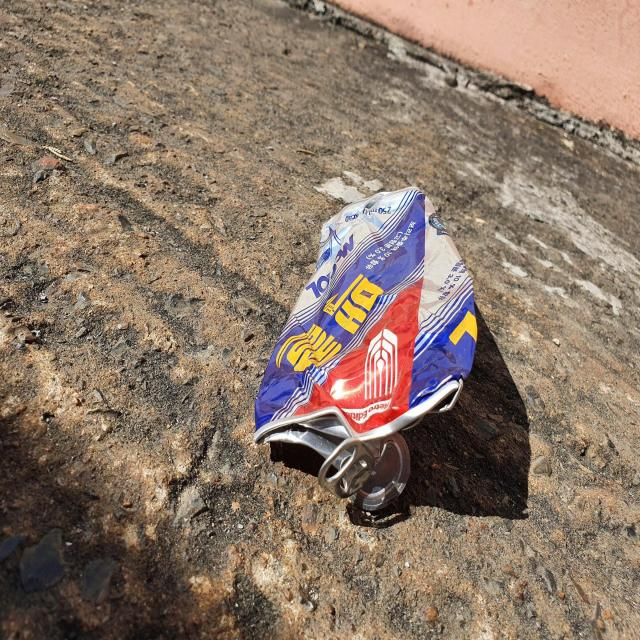can: (255, 187, 478, 511)
